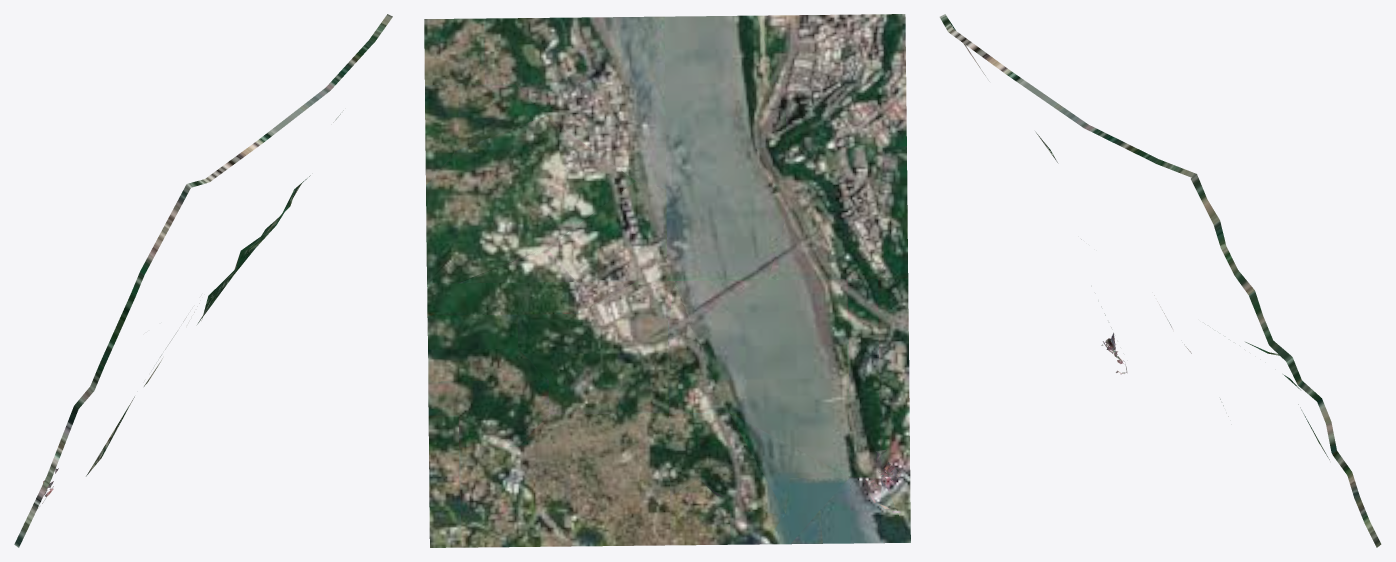
3 views of the same model, side by side, from view 1: azimuth 30°, elevation 25°; view 2: azimuth 150°, elevation 25°; view 3: azimuth 270°, elevation 25° (orthographic). The views are drawn at different scales.
Bounding box in the file's own units: 2402 × 2264 × 2113.
Materials: 1 (1 with a texture image).
